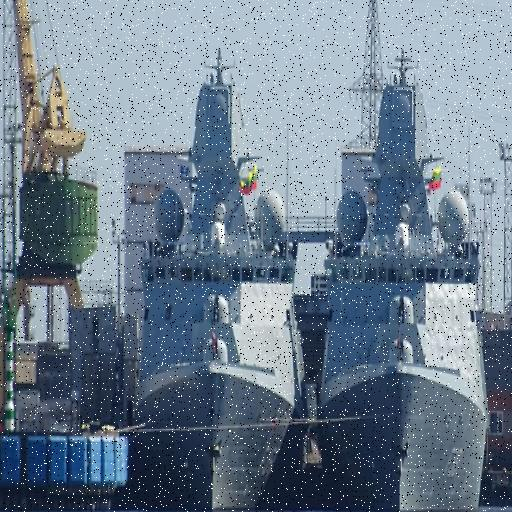Fragata: (120, 20, 308, 512), (315, 2, 492, 512)
